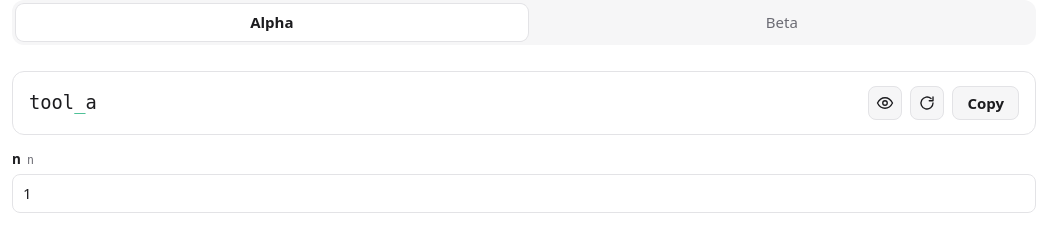
GuiTabsSection › keeps a tab's settings and result when you come back
The width and height of the screenshot is (1048, 230).
What coordinates should you click on to do the following:
click the tab with test id "tab" showing "Beta"
I would click on:
 (782, 23)
Its box is [532,4,1032,41].
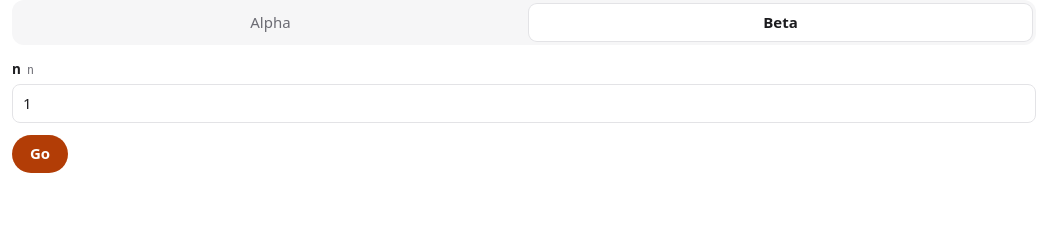
What coordinates should you click on to do the following:
click the tab with test id "tab" showing "Alpha"
I would click on:
 (270, 23)
Its box is [16,4,525,41].
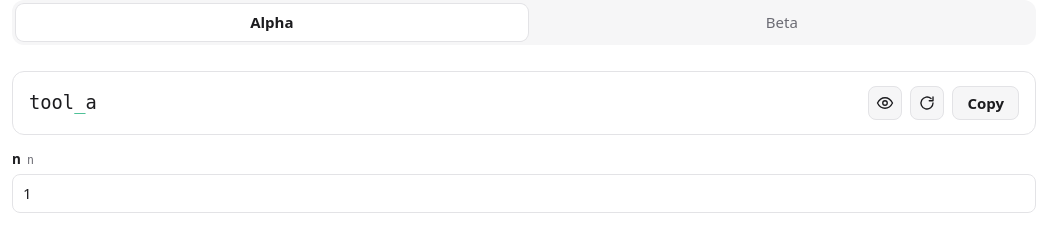
Expected: the element with test id "secret" reads "tool_a", [29,92,97,113]
